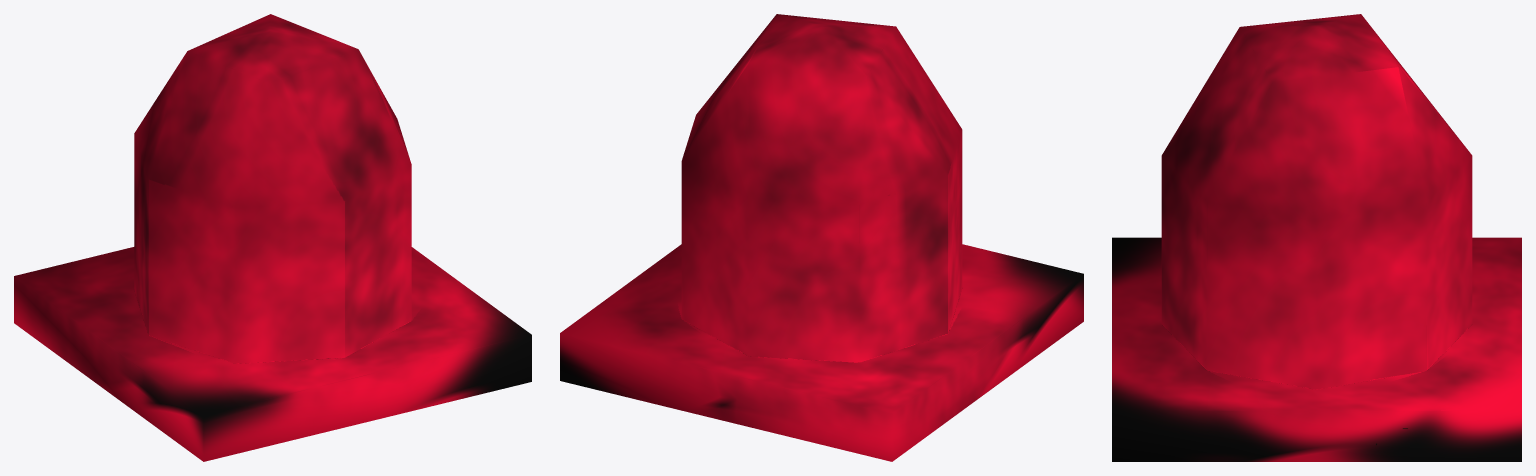
Rendered from luceRossa.fbx.
3 renders of one model, left to right at view 1: azimuth 30°, elevation 25°; view 2: azimuth 150°, elevation 25°; view 3: azimuth 270°, elevation 25°, orthographic. The views are drawn at different scales.
Visible parts, largest first — view 1: LuceRossaMesh; view 2: LuceRossaMesh; view 3: LuceRossaMesh.
Part boxes in pixels (x1=…): LuceRossaMesh: x1=14, y1=14, x2=531, y2=461; LuceRossaMesh: x1=560, y1=14, x2=1083, y2=461; LuceRossaMesh: x1=1112, y1=14, x2=1521, y2=461.
Size of the model in its own units: 1.78 by 1.67 by 1.78.
